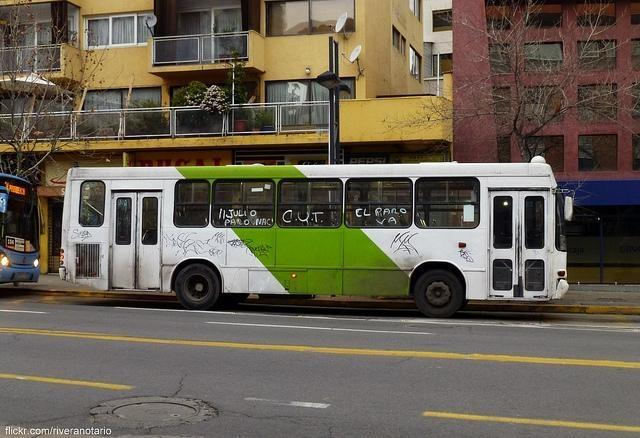bus: (62, 154, 574, 320), (3, 176, 48, 280)
